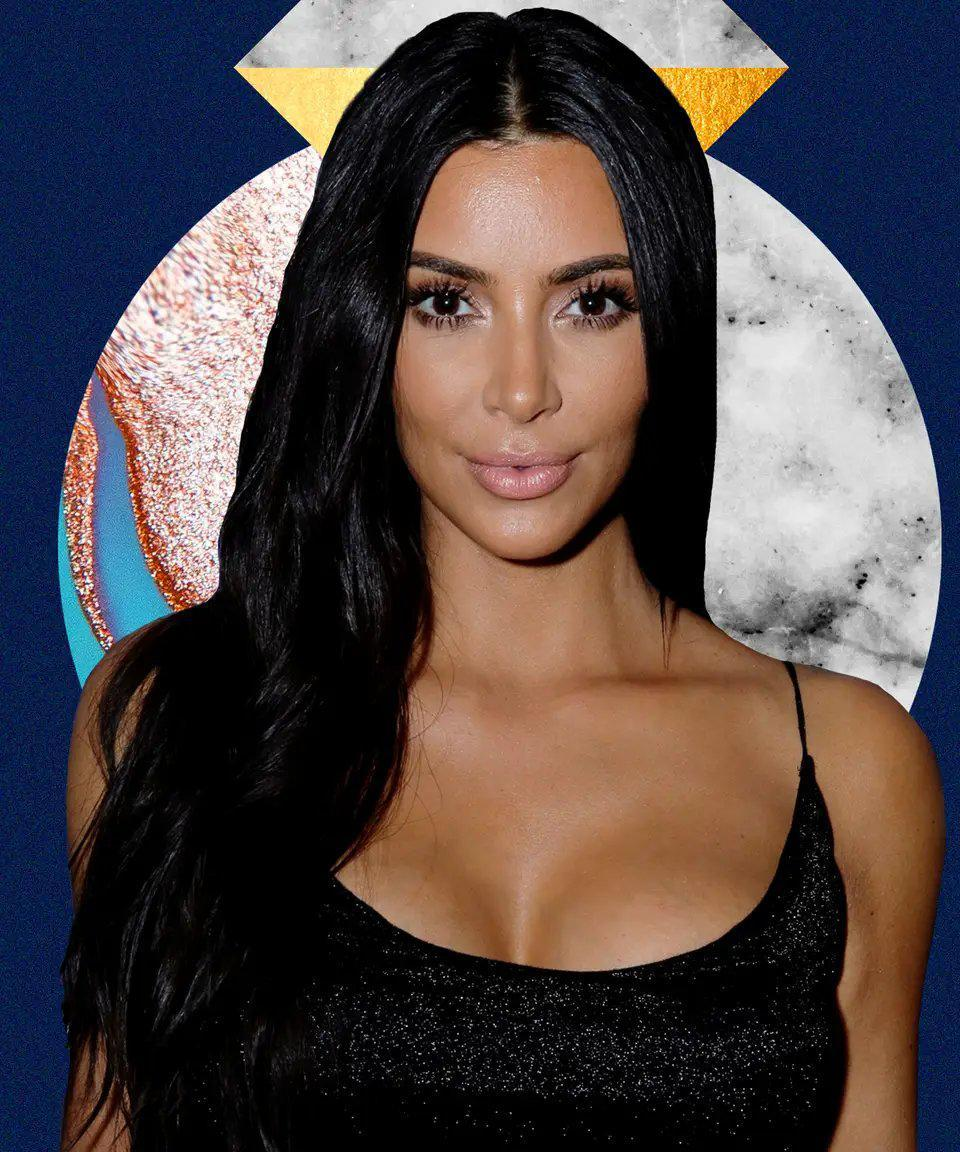Sober: (388, 153, 644, 537)
